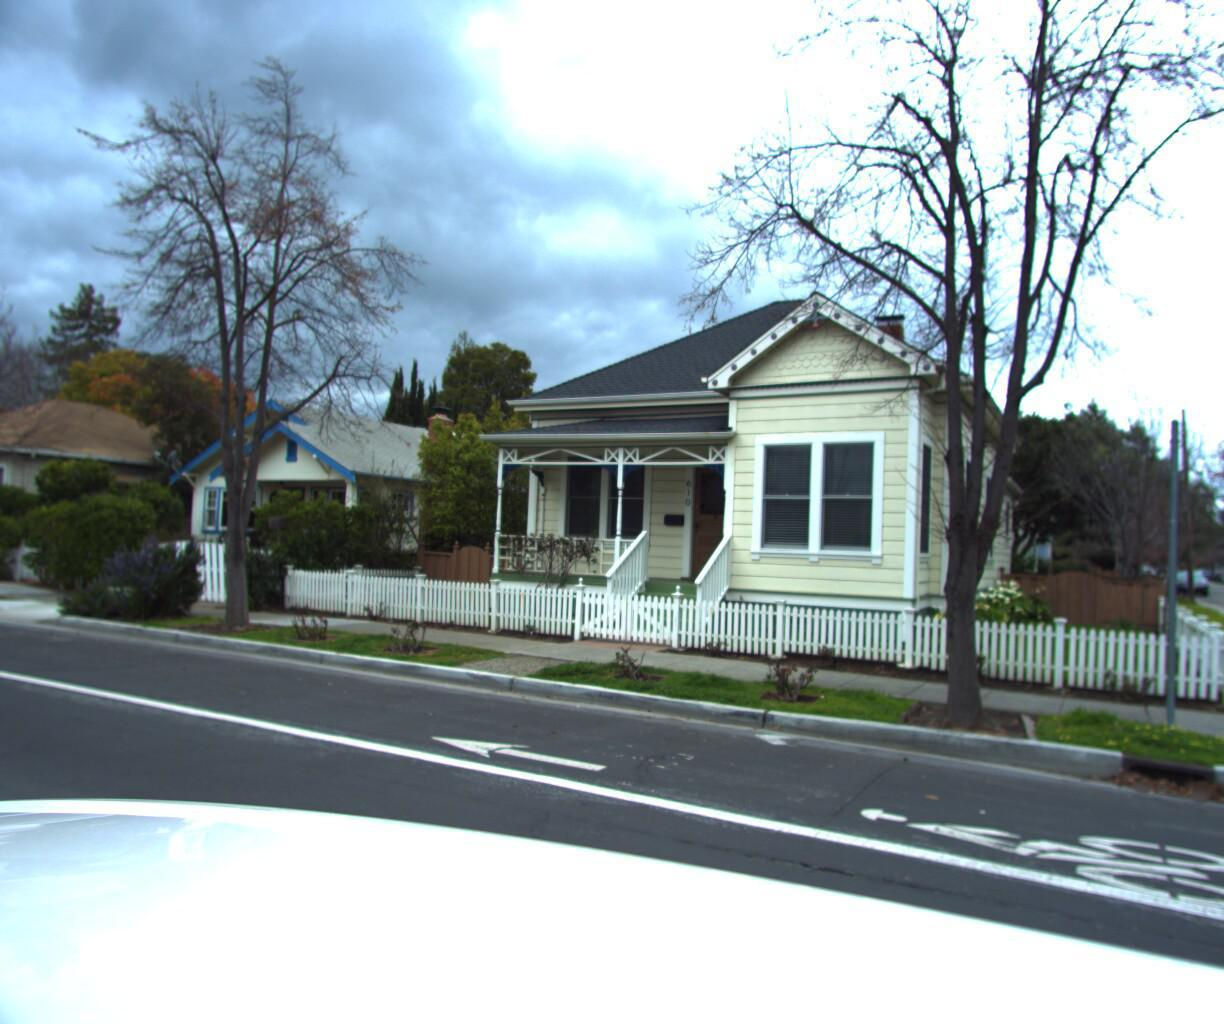car: (1177, 568, 1215, 597)
